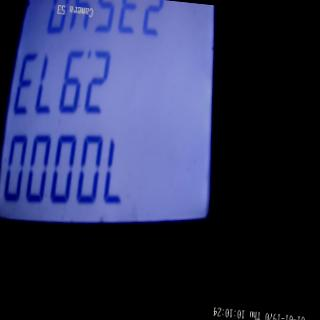screen: (0, 0, 236, 247)
